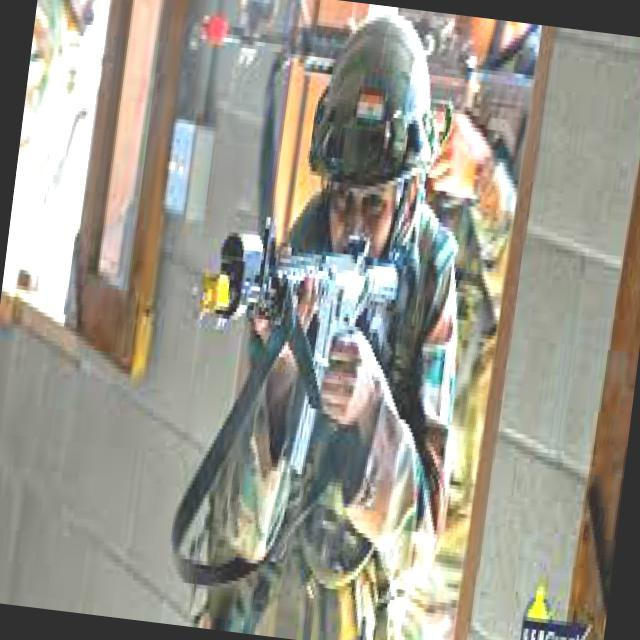long weapon: (170, 220, 432, 452)
